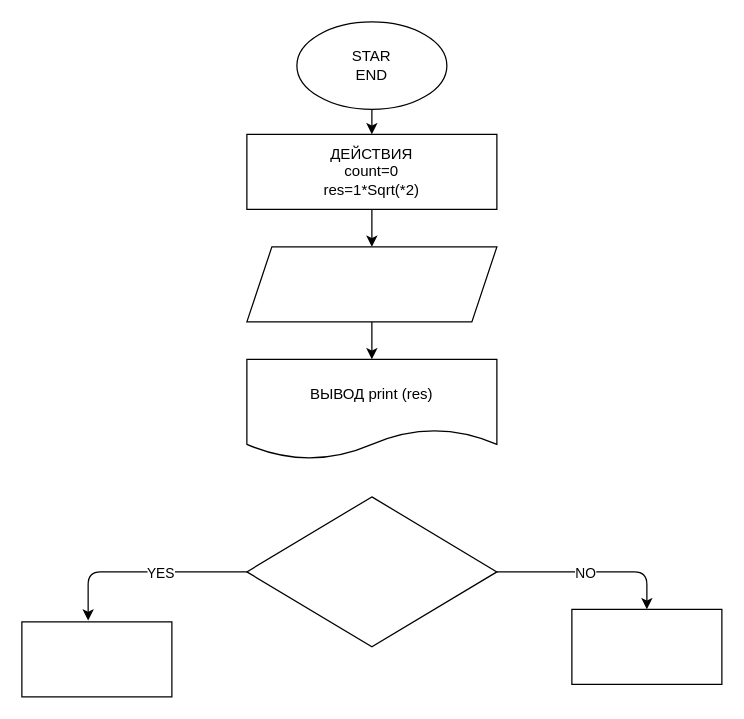
Image size: 744x719. Some labels were removed from this diagram. Each missing label, with the box of its shape:
ВВОД count: (246, 246, 497, 322)
УСЛОВИЕ CONDITION: (246, 496, 497, 647)
